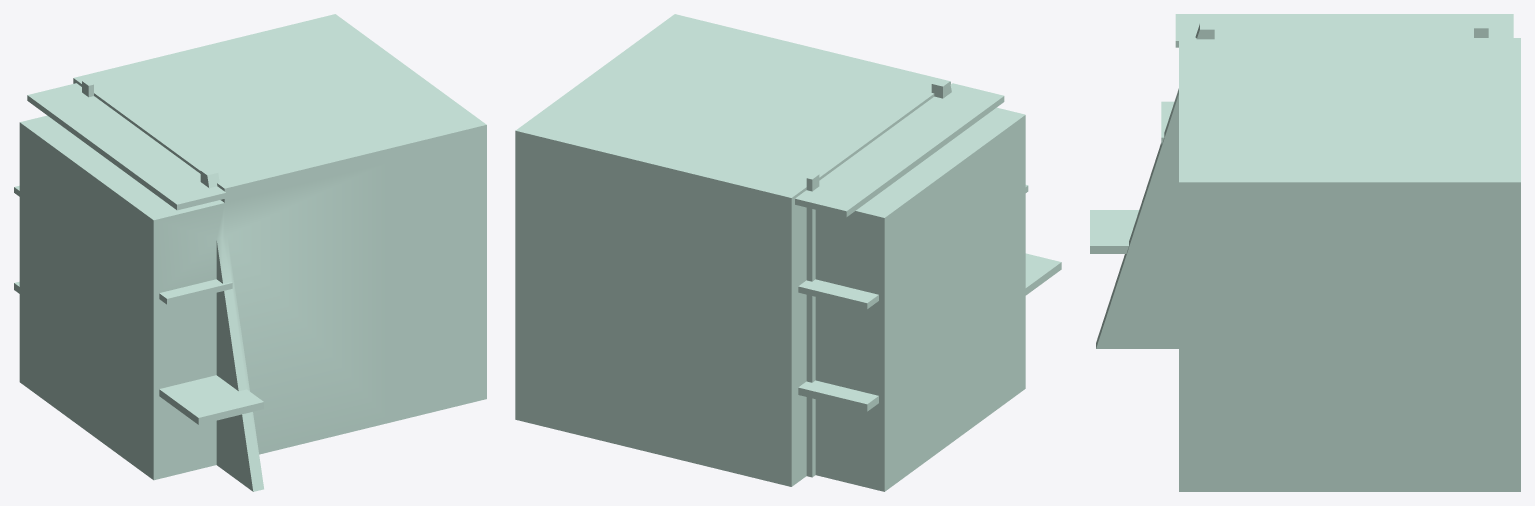
3 views of the same model, side by side, from view 1: azimuth 30°, elevation 25°; view 2: azimuth 150°, elevation 25°; view 3: azimuth 270°, elevation 25° (orthographic). The views are drawn at different scales.
Visible parts, largest first — view 1: Renderer Node; view 2: Renderer Node; view 3: Renderer Node.
Part boxes in pixels (left/top/right/bottom): Renderer Node: left=14, top=14, right=486, bottom=491; Renderer Node: left=515, top=14, right=1061, bottom=491; Renderer Node: left=1090, top=14, right=1520, bottom=491.
Size of the model in its own units: 0.9531 by 0.7734 by 0.9453.
